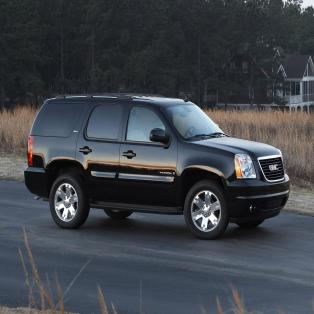Auto: (24, 93, 291, 239)
